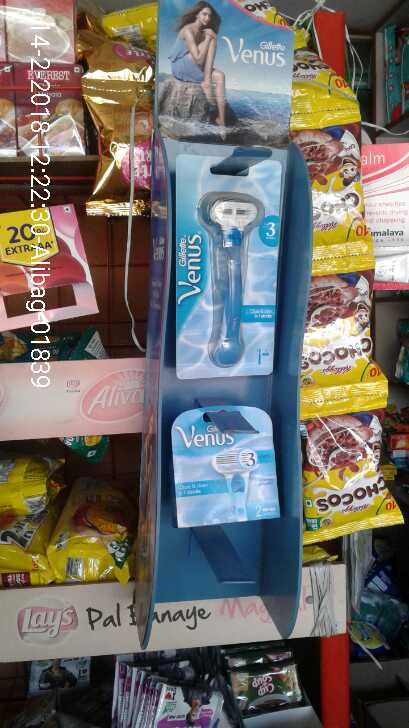beauty: (176, 155, 276, 374), (174, 406, 281, 527)
